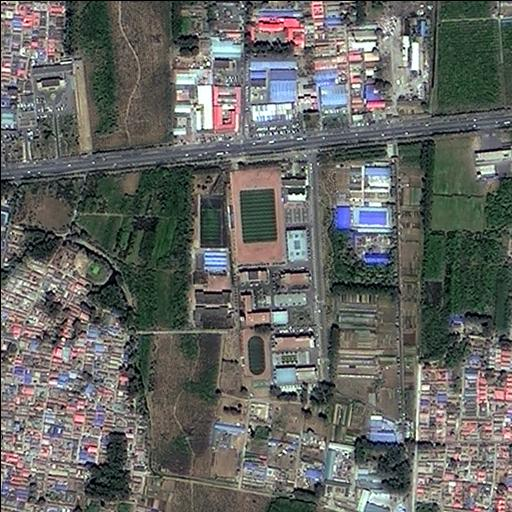school: (228, 156, 319, 325), (235, 323, 317, 398)
